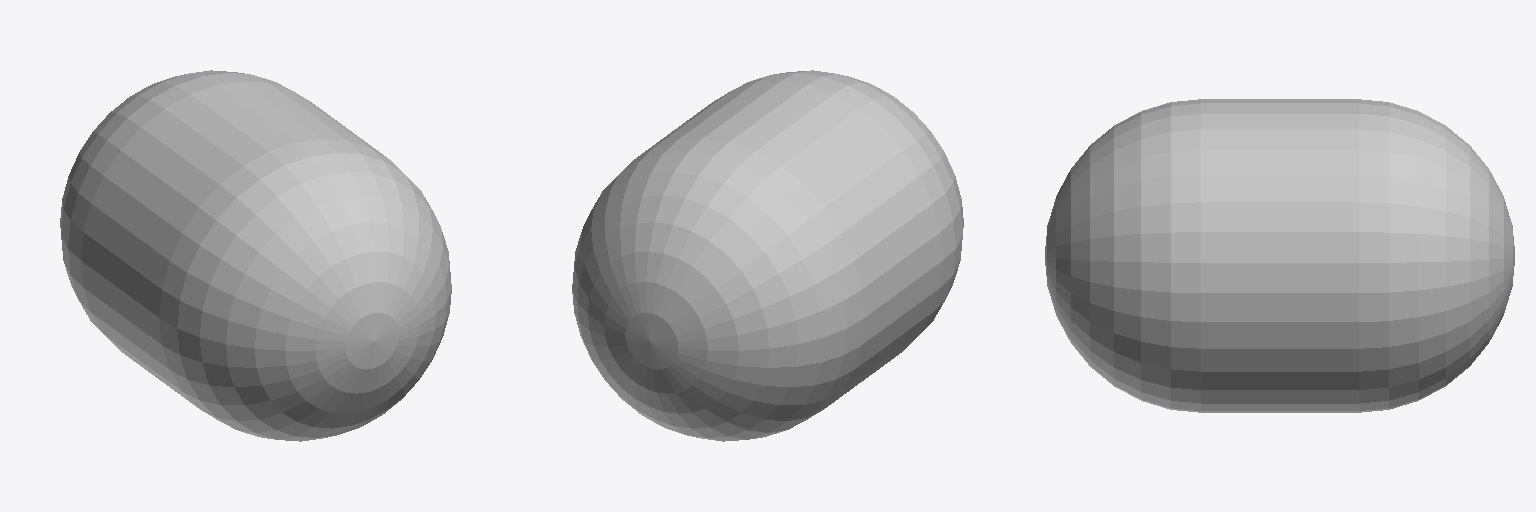
The model's file is bart.obj.
3 views of the same model, side by side, from view 1: azimuth 30°, elevation 25°; view 2: azimuth 150°, elevation 25°; view 3: azimuth 270°, elevation 25° (orthographic).
Parts seen in each view (by area): view 1: Sphere; view 2: Sphere; view 3: Sphere.
Boxes of the visible parts, x1,y1,x2,y2 form: Sphere: [60, 70, 451, 441]; Sphere: [572, 70, 963, 441]; Sphere: [1045, 99, 1514, 412].
Size of the model in its own units: 0.2081 by 0.2081 by 0.3122.